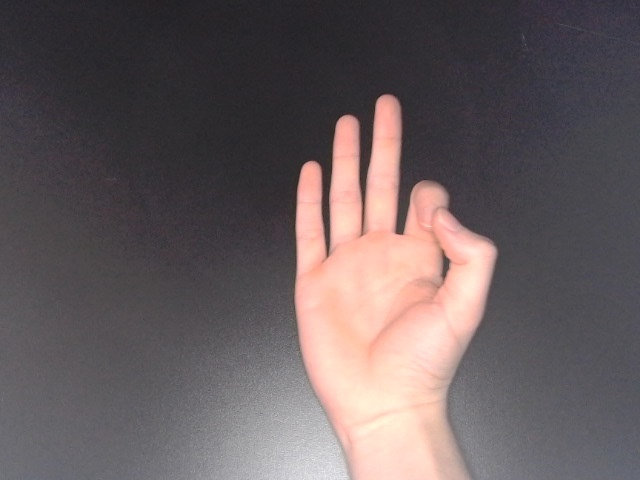f: (287, 90, 503, 453)
